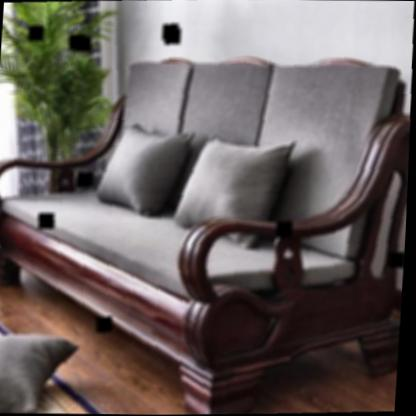Sofa: (9, 58, 400, 339)
